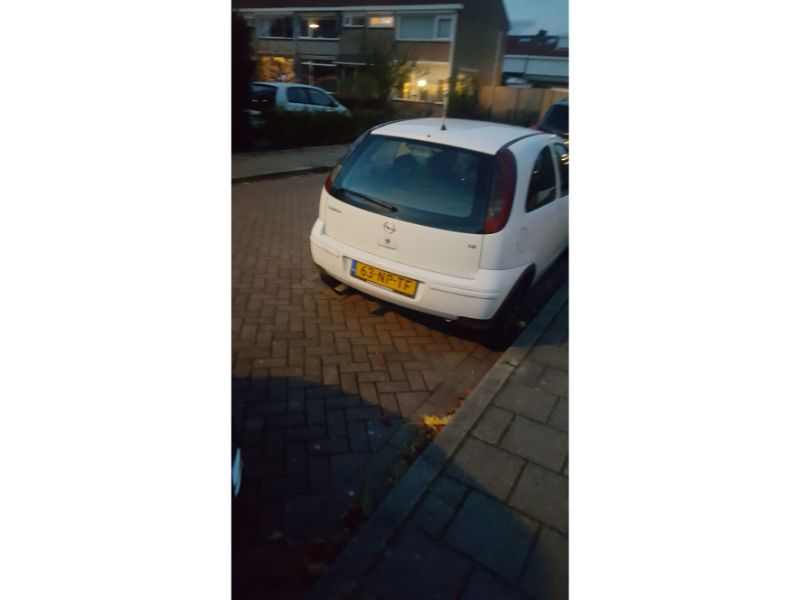kenteken: (345, 257, 420, 298)
